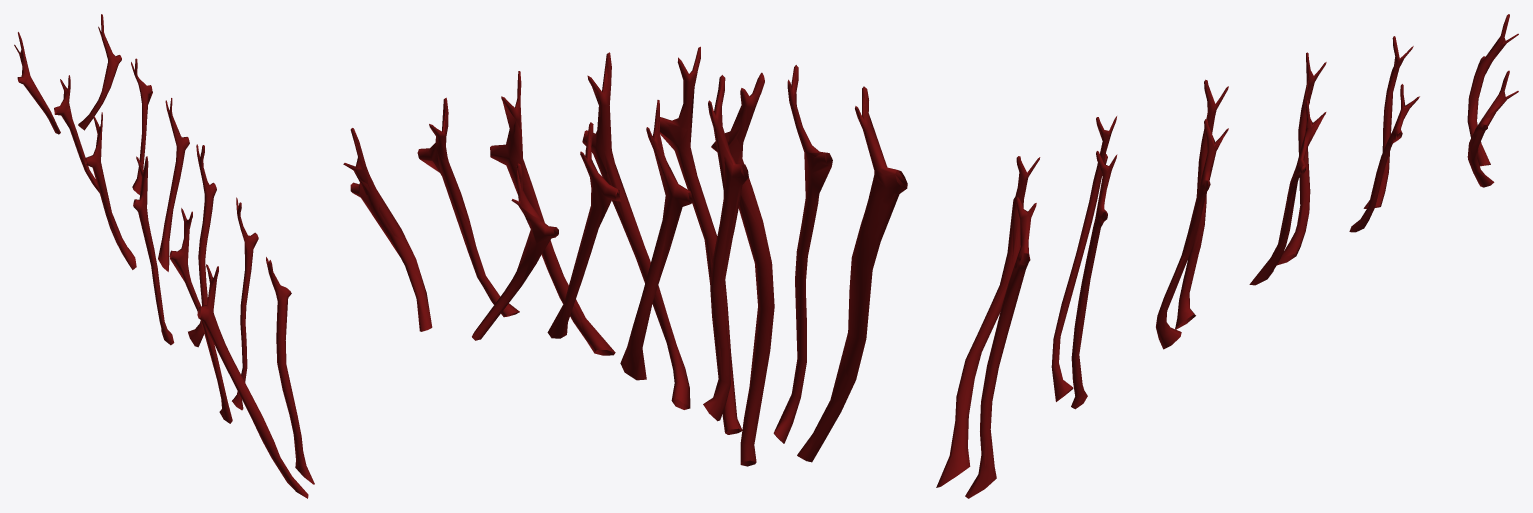
File: arteriae intercostales dorsales.fbx
3 views of the same model, side by side, from view 1: azimuth 30°, elevation 25°; view 2: azimuth 150°, elevation 25°; view 3: azimuth 270°, elevation 25° (orthographic). The views are drawn at different scales.
Visible parts, largest first — view 1: arteriae intercostales dorsales, arteriae intercostales dorsales low; view 2: arteriae intercostales dorsales, arteriae intercostales dorsales low; view 3: arteriae intercostales dorsales, arteriae intercostales dorsales low.
Part boxes in pixels (x1=…): arteriae intercostales dorsales: x1=14, y1=14, x2=314, y2=498; arteriae intercostales dorsales low: x1=18, y1=24, x2=313, y2=494; arteriae intercostales dorsales: x1=343, y1=46, x2=907, y2=466; arteriae intercostales dorsales low: x1=346, y1=50, x2=907, y2=465; arteriae intercostales dorsales: x1=936, y1=14, x2=1518, y2=498; arteriae intercostales dorsales low: x1=938, y1=20, x2=1509, y2=495.
Bounding box in the file's own units: 5.64 × 17.12 × 21.12.
